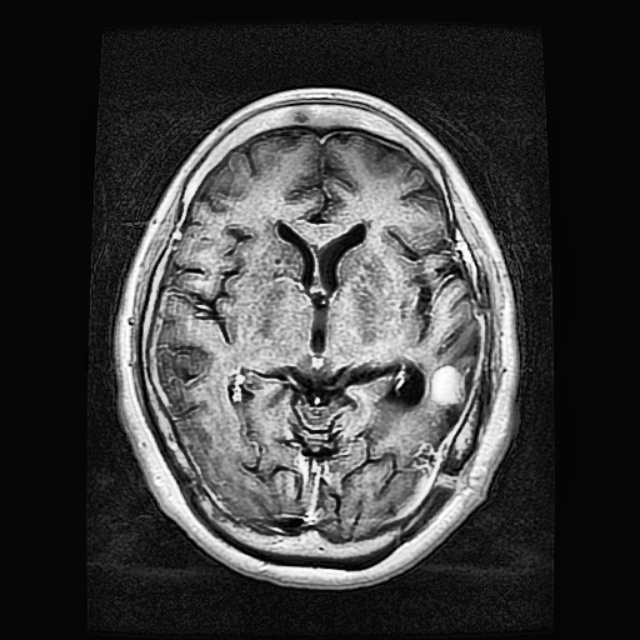Glioma: (429, 363, 465, 405)
